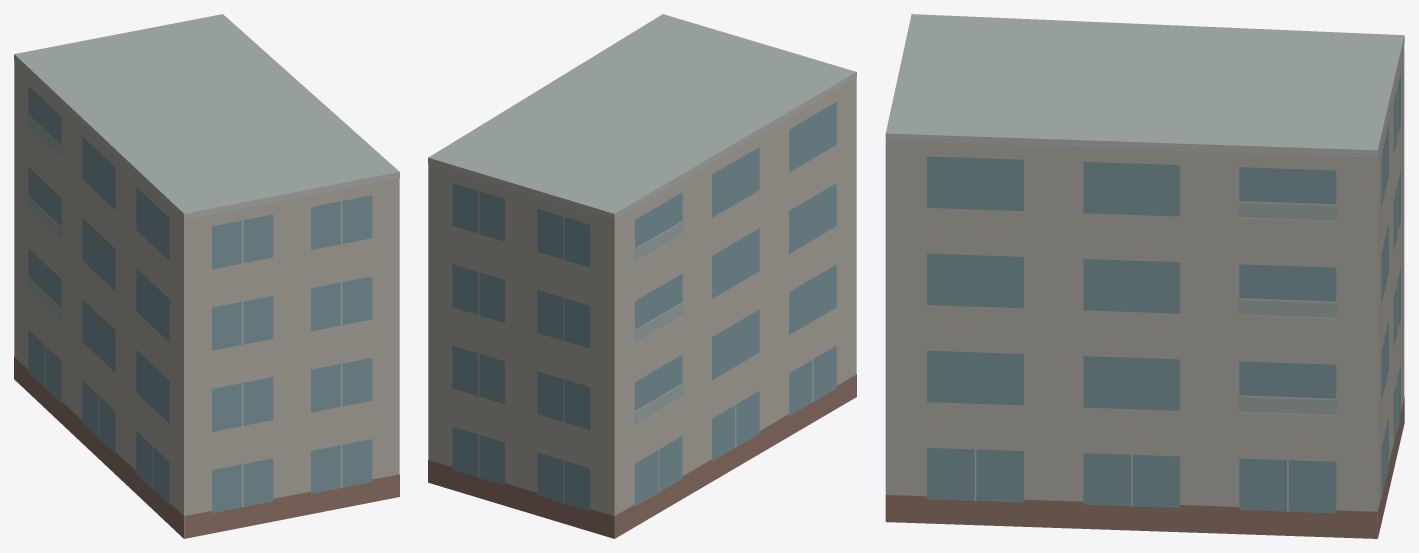
The model's file is survey-upis-32513385.glb.
The picture shows the model from 3 angles, left to right: view 1: azimuth 30°, elevation 25°; view 2: azimuth 150°, elevation 25°; view 3: azimuth 270°, elevation 25°; orthographic projection. The views are drawn at different scales.
Visible parts, largest first — view 1: survey-upis-32513385.tmp; view 2: survey-upis-32513385.tmp; view 3: survey-upis-32513385.tmp.
Boxes of the visible parts, x1,y1,x2,y2 form: survey-upis-32513385.tmp: (14,14,399,538); survey-upis-32513385.tmp: (428,14,856,538); survey-upis-32513385.tmp: (885,14,1404,538).
Bounding box in the file's own units: 9.64 × 12.8 × 15.5.
